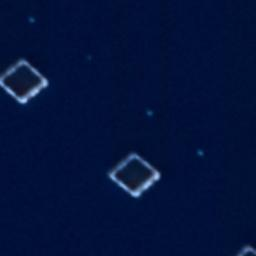square_solid: (105, 147, 164, 202), (1, 55, 53, 107)
